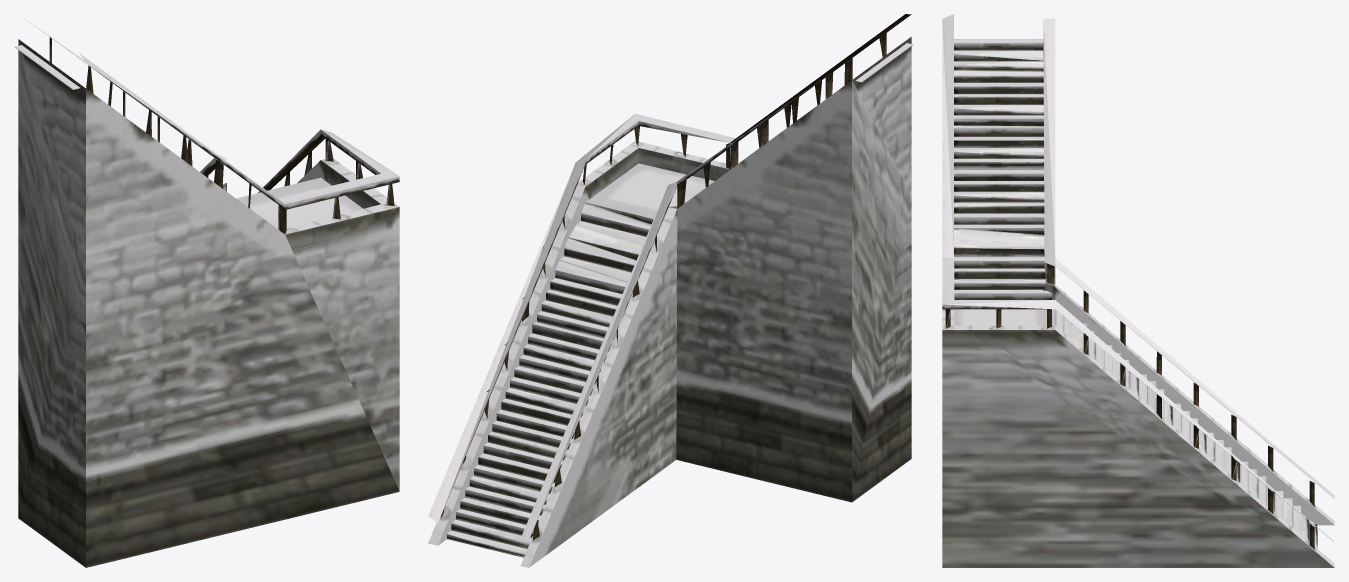
The model's file is general_obj_watchtower02_lod_01.glb.
The picture shows the model from 3 angles, left to right: view 1: azimuth 30°, elevation 25°; view 2: azimuth 150°, elevation 25°; view 3: azimuth 270°, elevation 25°; orthographic projection. The views are drawn at different scales.
Parts seen in each view (by area): view 1: general_obj_watchtower02; view 2: general_obj_watchtower02; view 3: general_obj_watchtower02.
Boxes of the visible parts, x1=… form: general_obj_watchtower02: x1=14, y1=17, x2=399, y2=567; general_obj_watchtower02: x1=428, y1=14, x2=913, y2=567; general_obj_watchtower02: x1=942, y1=14, x2=1334, y2=567.
Bounding box in the file's own units: 7.99 × 12.12 × 10.12.
Materials: 1 (1 with a texture image).
